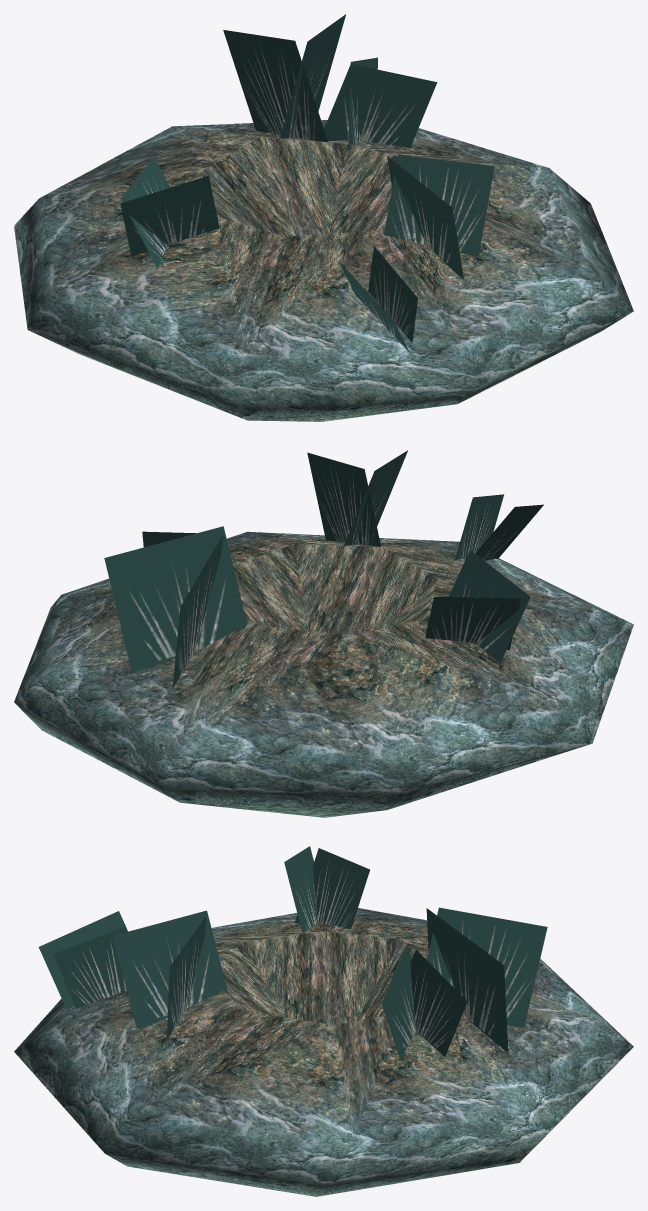
The model's file is rock_crystl_mound_lrg_l2.fbx.
3 renders of one model, top to bottom at view 1: azimuth 30°, elevation 25°; view 2: azimuth 150°, elevation 25°; view 3: azimuth 270°, elevation 25°, orthographic. The views are drawn at different scales.
Parts seen in each view (by area): view 1: mesh_node; view 2: mesh_node; view 3: mesh_node.
Boxes of the visible parts, bbox=[...] form: mesh_node: bbox=[14, 14, 633, 421]; mesh_node: bbox=[14, 450, 633, 817]; mesh_node: bbox=[14, 846, 633, 1196].
Size of the model in its own units: 29.36 by 16.5 by 29.99.
